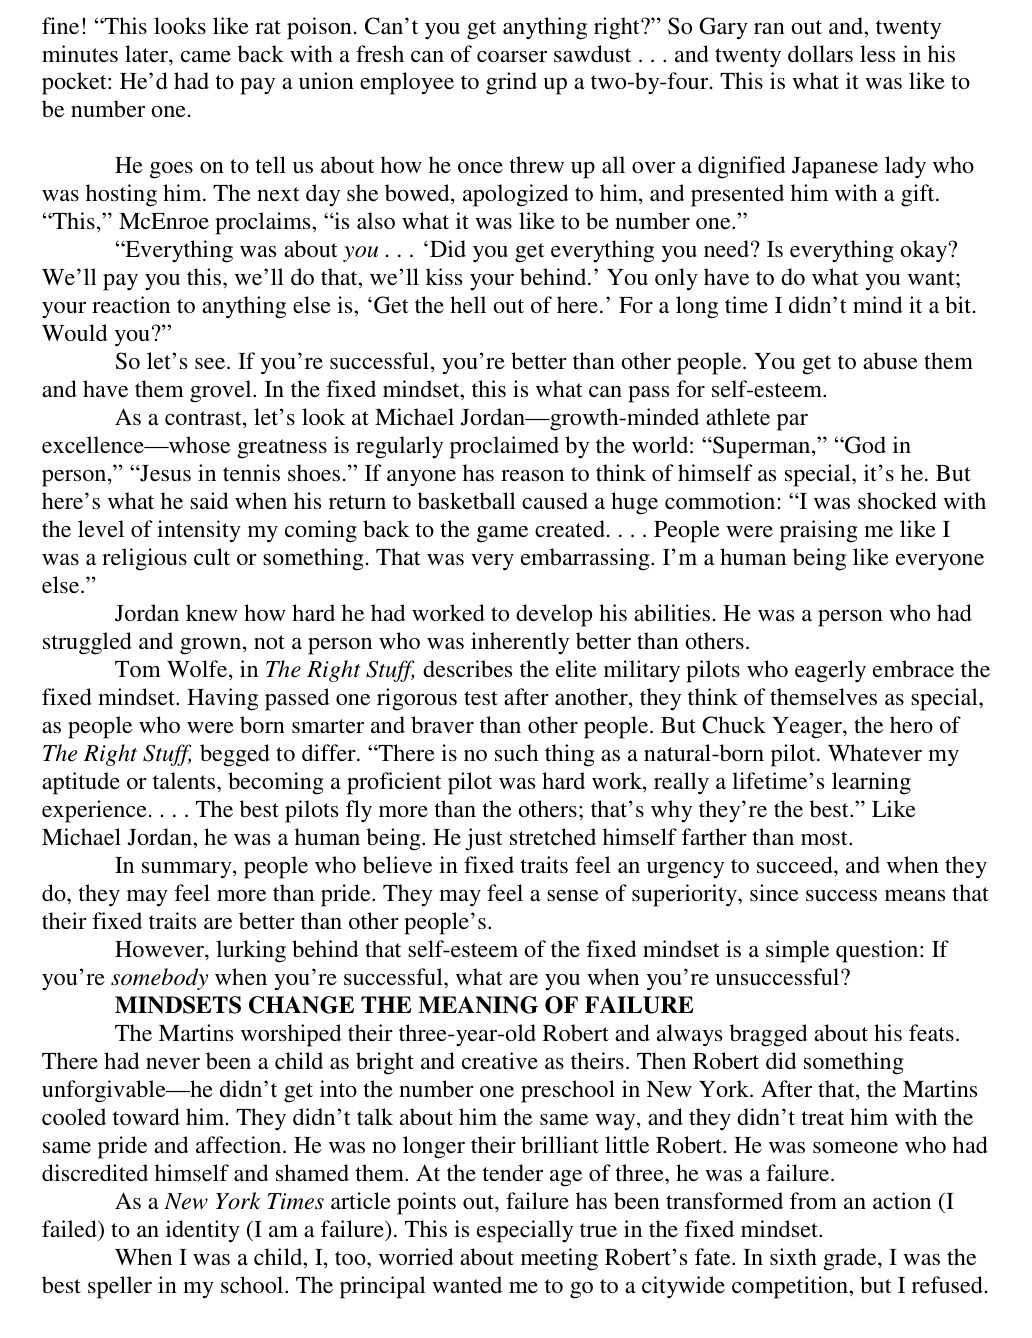latin: (41, 653, 995, 849), (35, 404, 986, 593), (37, 1022, 991, 1186), (38, 849, 990, 990), (38, 1187, 996, 1300), (35, 233, 979, 345), (38, 15, 971, 120), (36, 157, 976, 233), (33, 347, 973, 404), (34, 601, 986, 653), (113, 992, 695, 1022)
